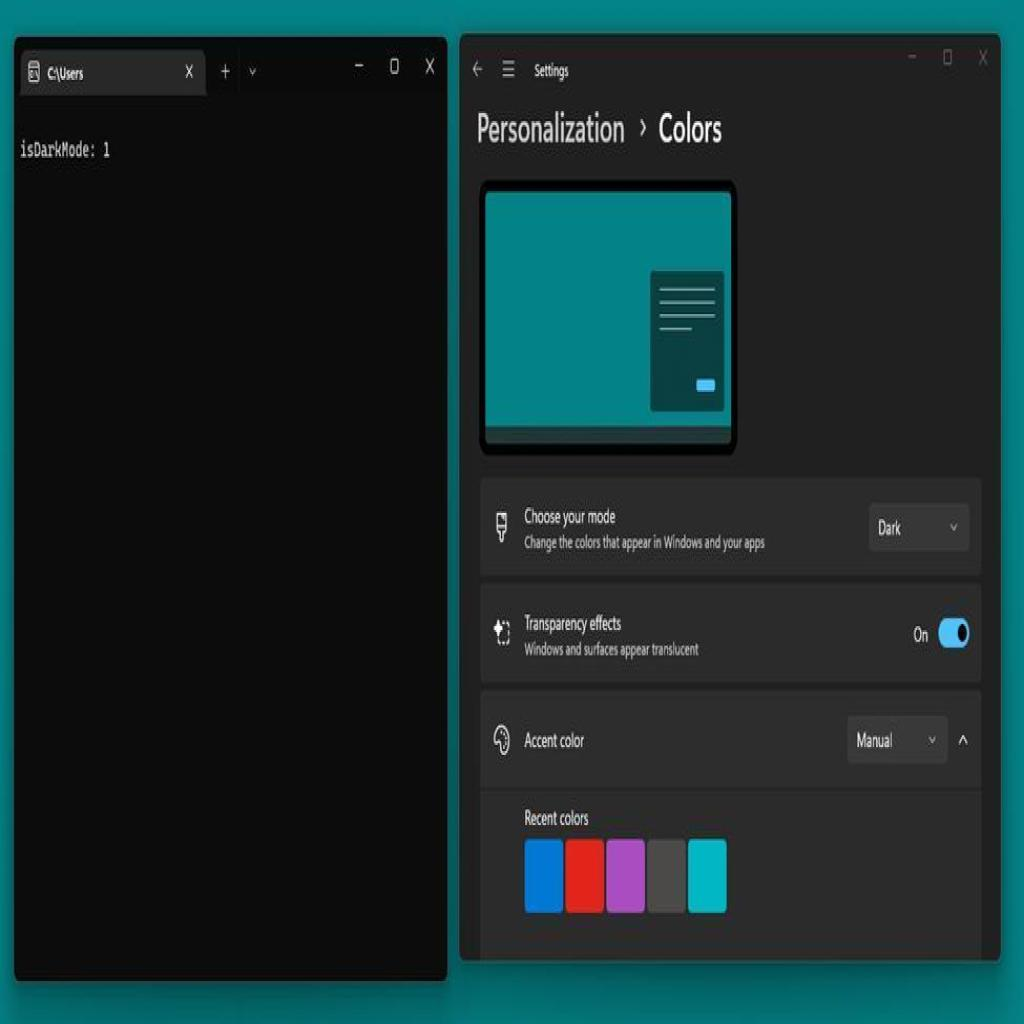button: (23, 50, 206, 98)
dropdown: (866, 503, 970, 554), (846, 718, 948, 766)
icon: (490, 718, 516, 768), (492, 505, 514, 550), (492, 616, 514, 648), (952, 724, 972, 758), (502, 54, 519, 86), (470, 51, 484, 82), (421, 55, 437, 80), (242, 62, 258, 84), (908, 49, 924, 70), (941, 49, 957, 68), (354, 55, 366, 80), (389, 53, 401, 76), (978, 47, 988, 72), (220, 62, 231, 84)
label: (470, 100, 731, 150), (518, 604, 624, 638), (520, 507, 622, 533), (522, 724, 587, 756)
switch: (938, 614, 970, 652)
